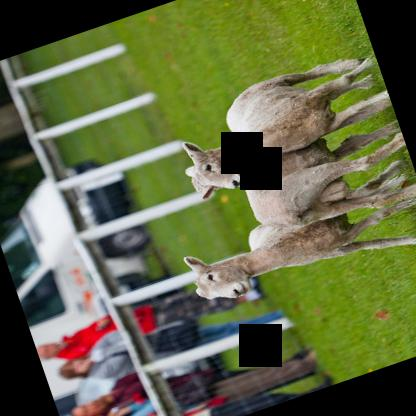handbag: (145, 318, 197, 353), (175, 374, 209, 408)
